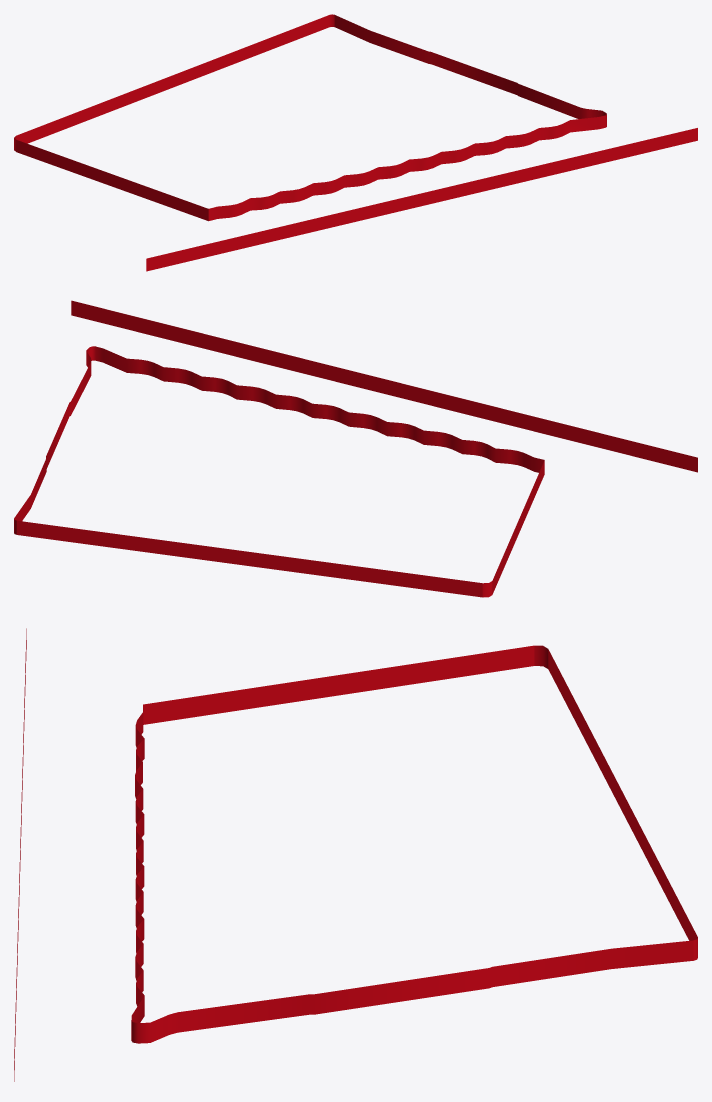
File: Vent barricades.fbx
3 views of the same model, one above another, from view 1: azimuth 30°, elevation 25°; view 2: azimuth 150°, elevation 25°; view 3: azimuth 270°, elevation 25° (orthographic). The views are drawn at different scales.
Visible parts, largest first — view 1: Plane.007; view 2: Plane.007; view 3: Plane.007.
Part boxes in pixels (x1,y1,x2,y2): Plane.007: (14,14,697,271); Plane.007: (14,300,697,597); Plane.007: (14,628,697,1081).
Bounding box in the file's own units: 4375 × 99.32 × 2873.
